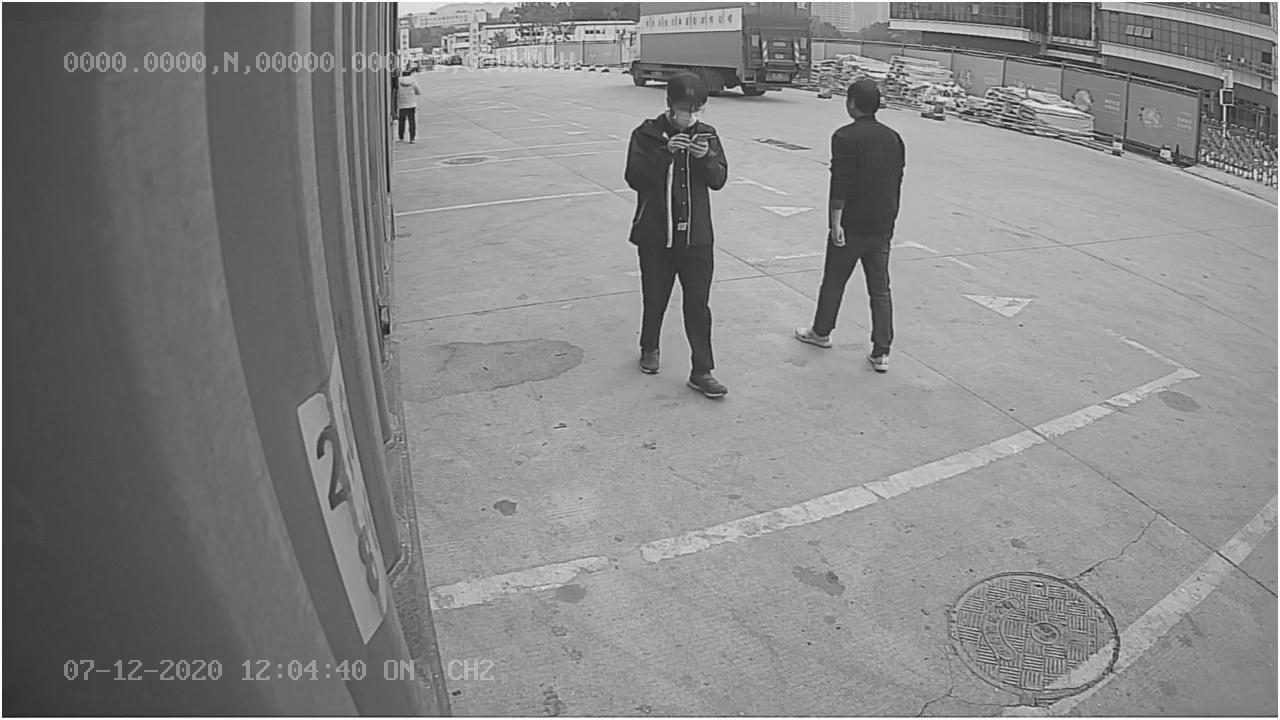person: (791, 77, 915, 371)
